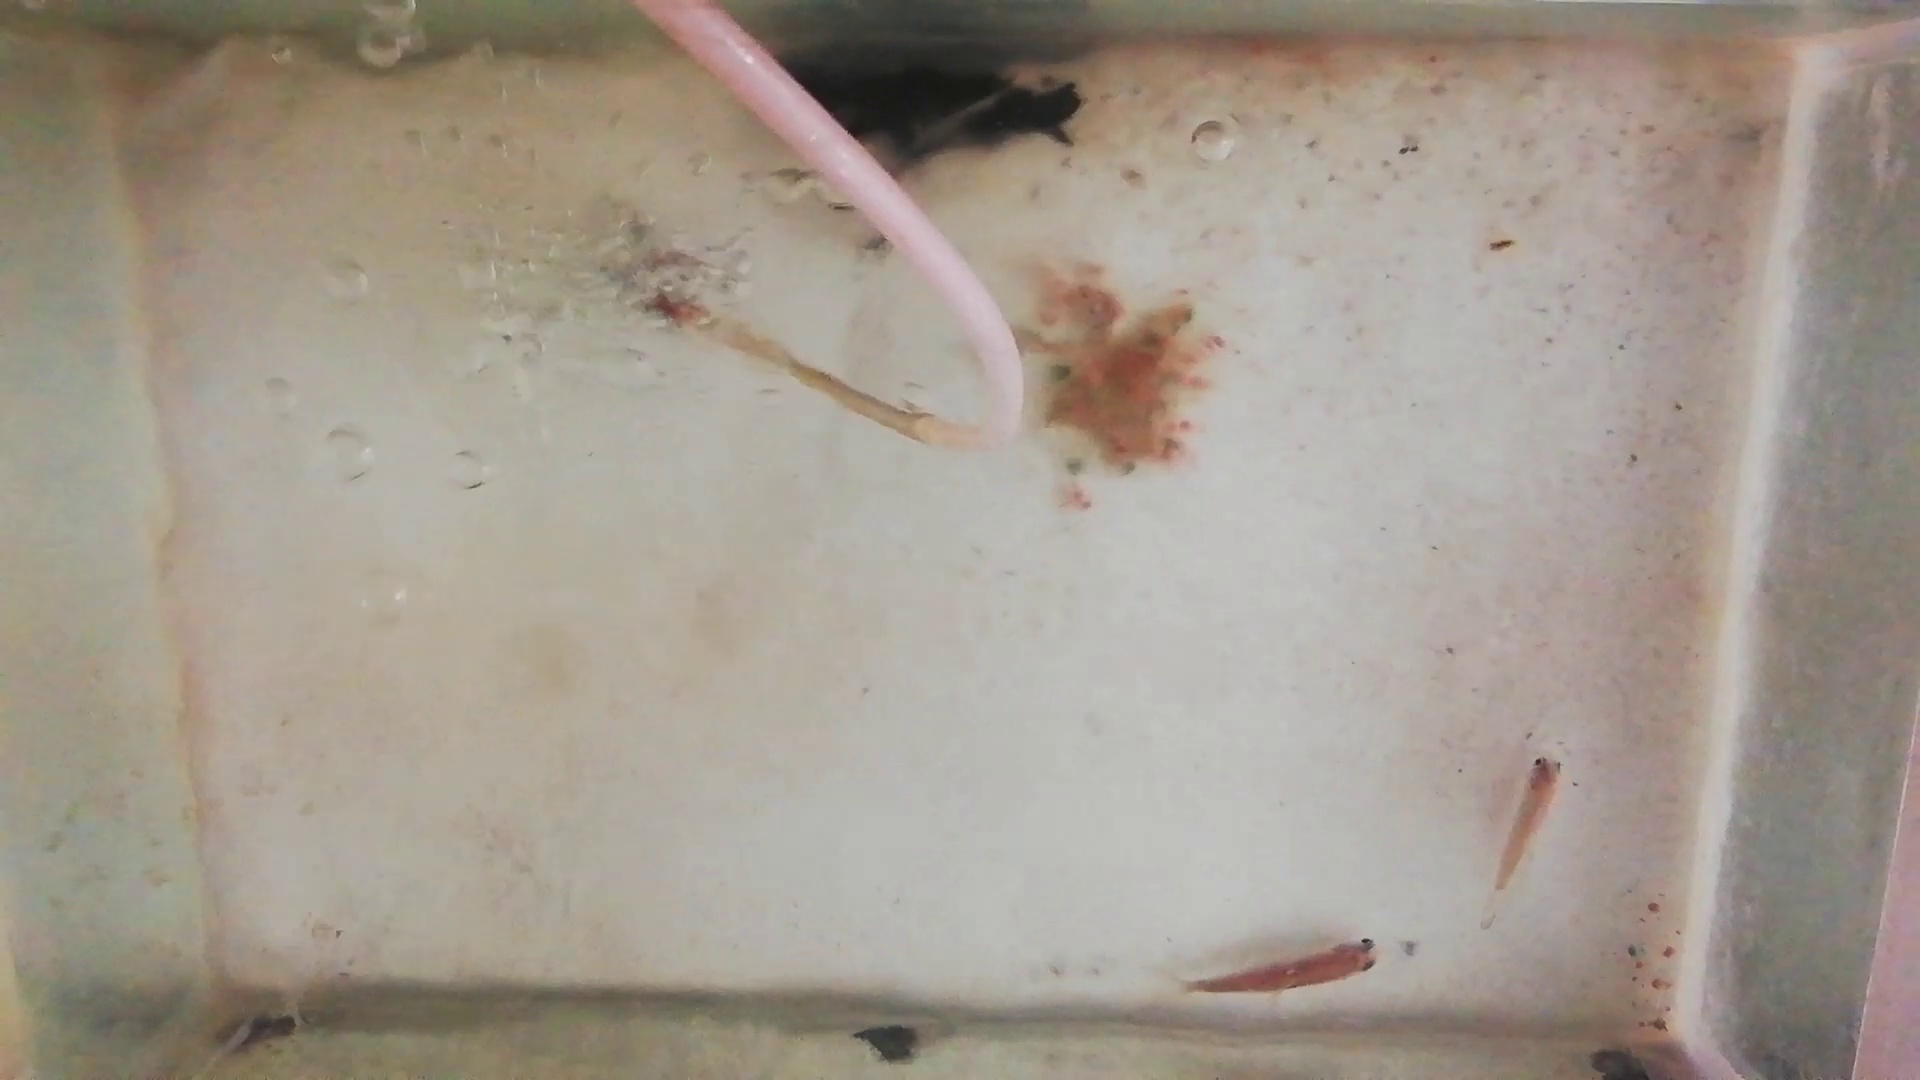fish: (1185, 934, 1385, 996), (1493, 756, 1563, 887)
